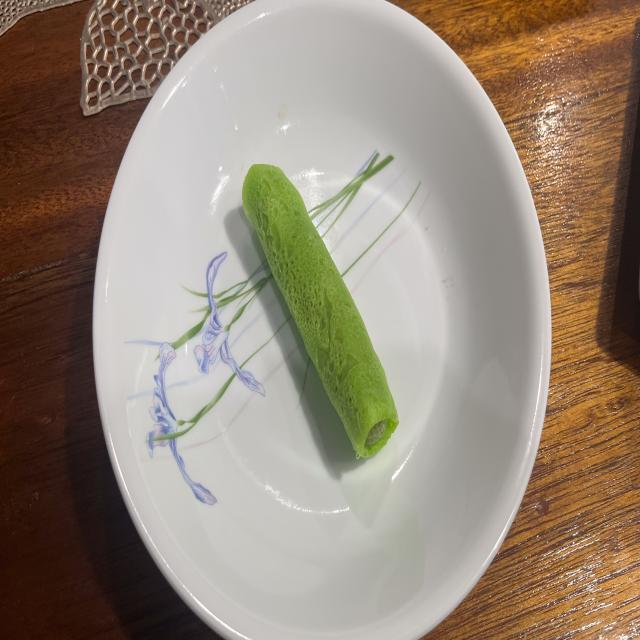Kuih-Ketayap: (242, 164, 399, 458)
